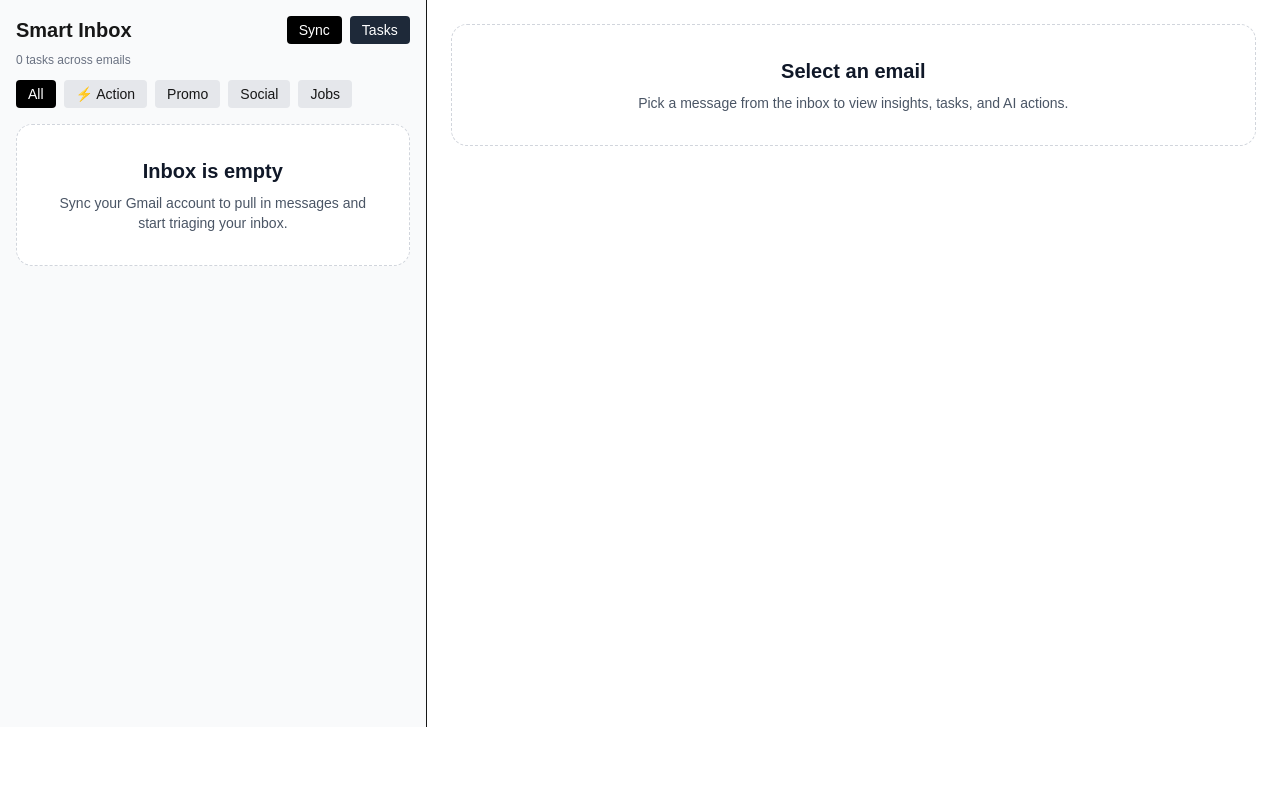
Test case: DashboardPage › shows sync failure feedback when syncing fails
The image size is (1280, 800).
Click the button "Sync" at (314, 30), box [287, 16, 342, 44]
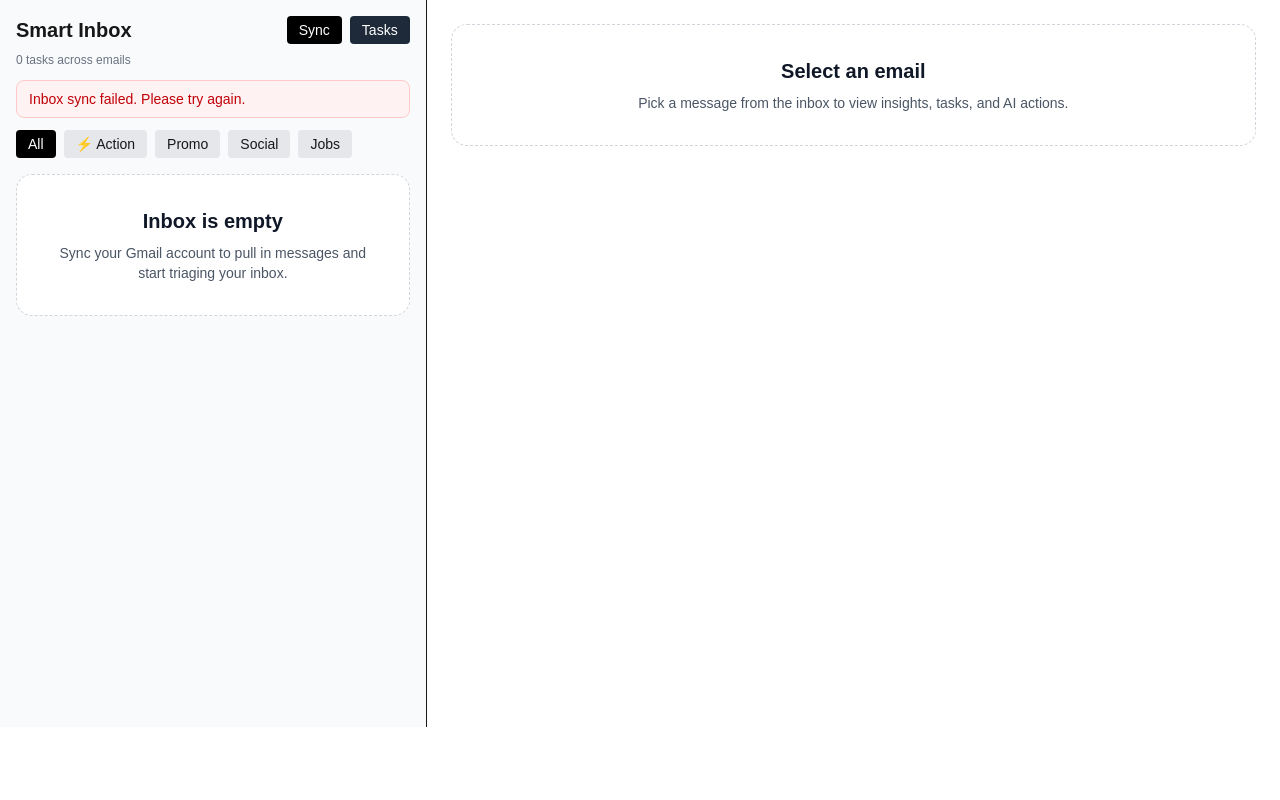
Result: the text "Inbox sync failed. Please try again." is shown at [16, 80, 410, 118]
